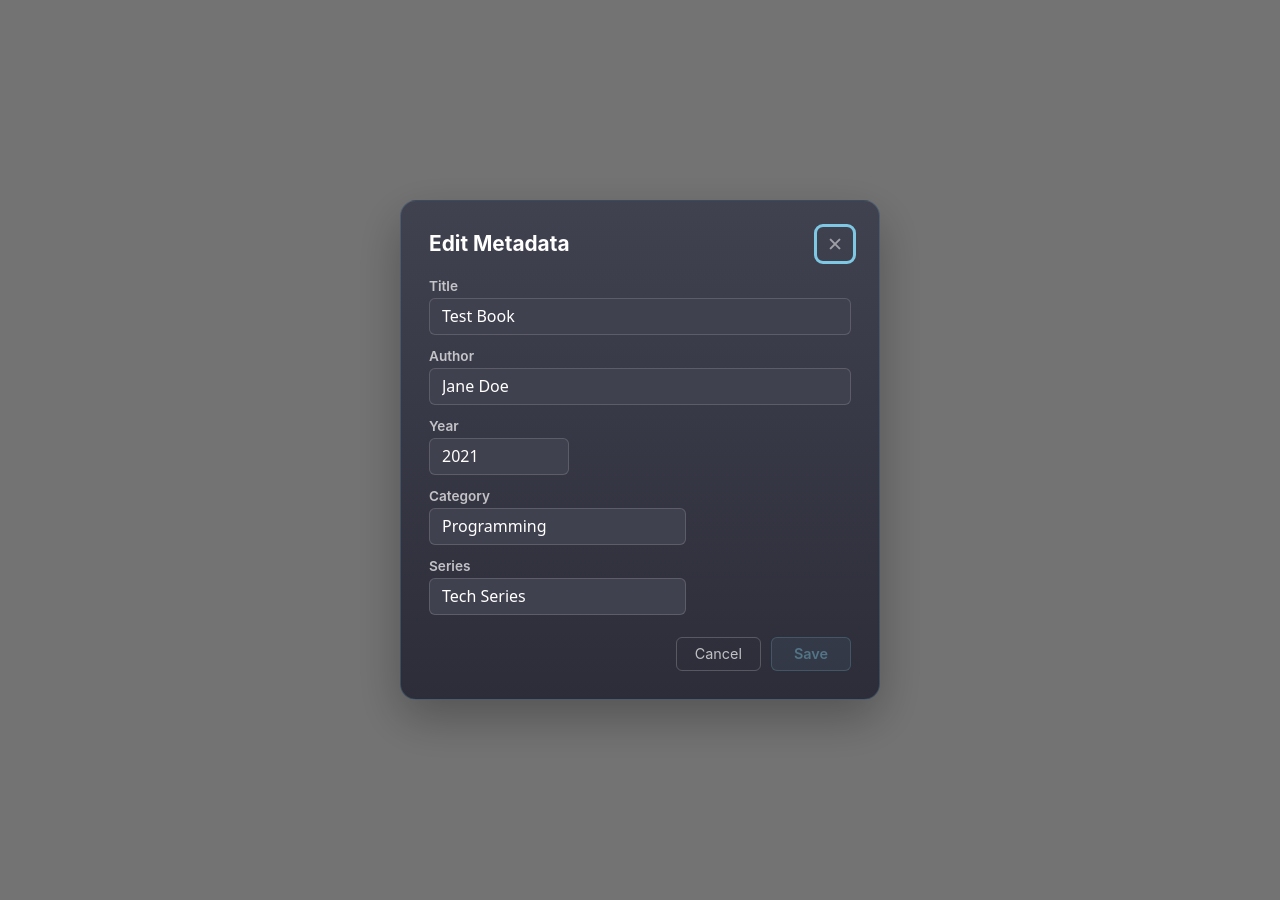
it: MetadataEditModal › shows inline error for invalid year
Replace the text in the number field labelled "Year" with "500" at coordinates (499, 457), box [429,438,569,475]
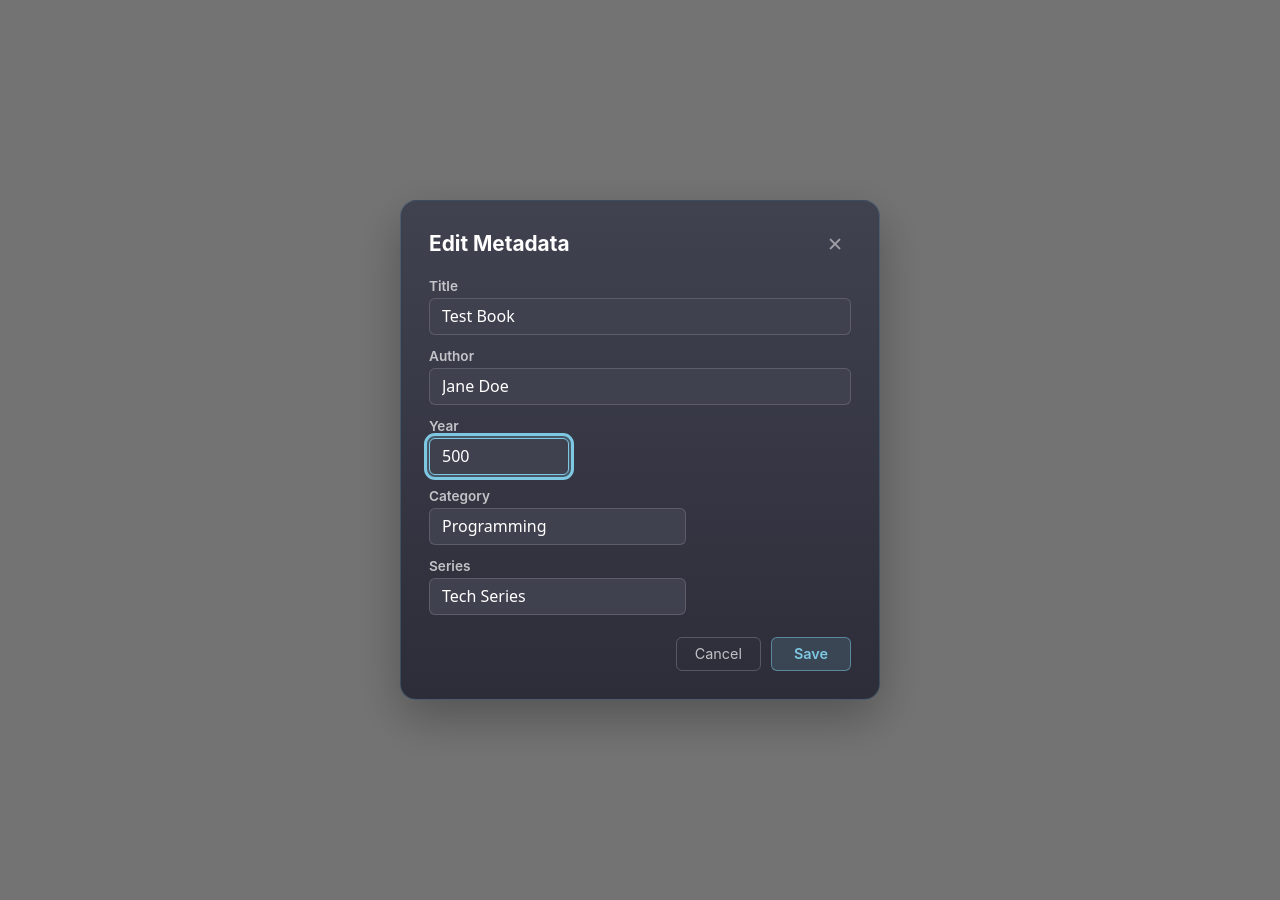
Click the button "Save".
click(811, 654)  # box [771,637,851,671]
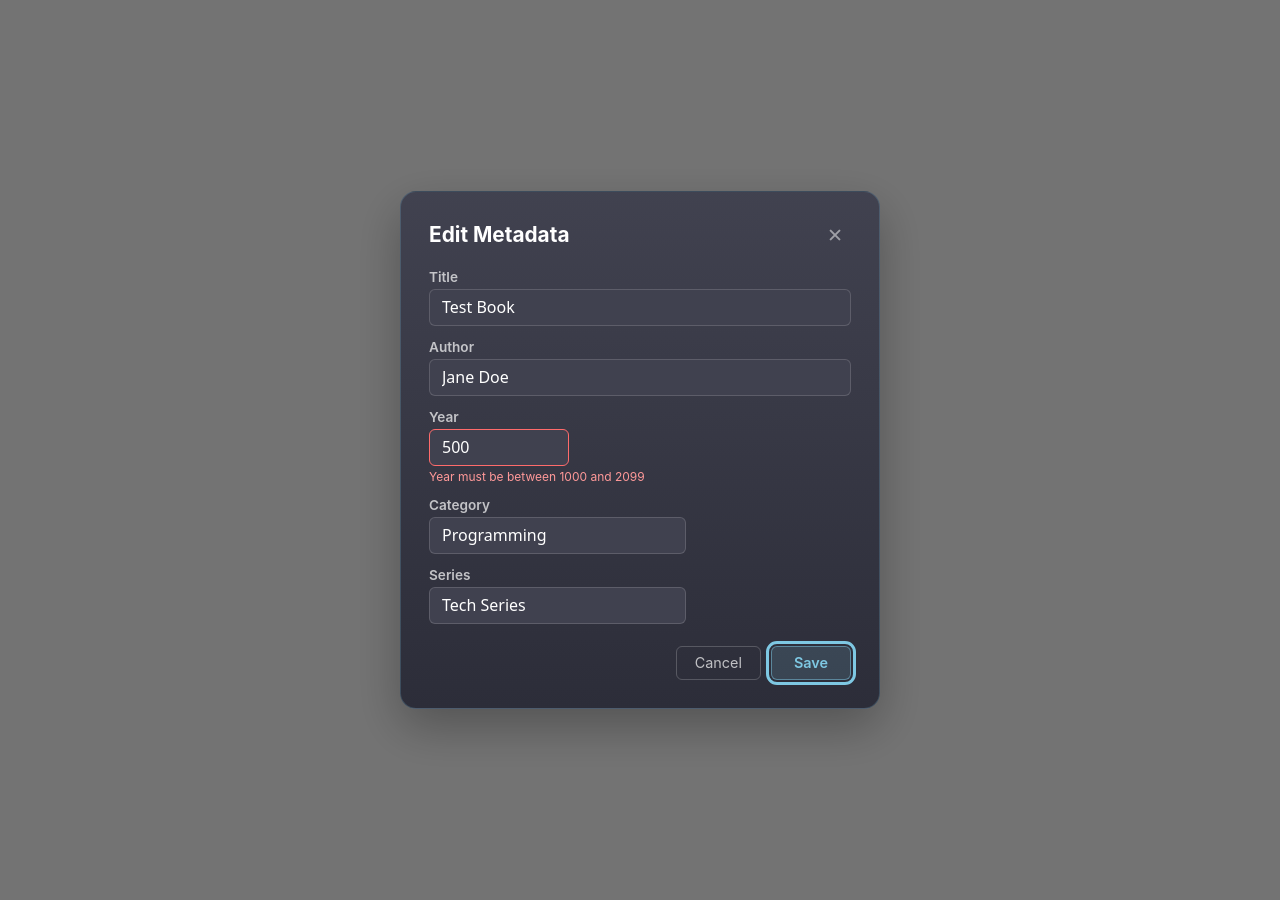
Now the text "Year must be between 1000 and 2099" is shown, box [429,469,645,484]
